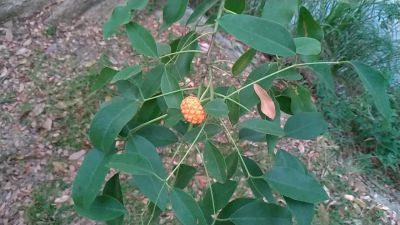eggs: (180, 93, 206, 125)
